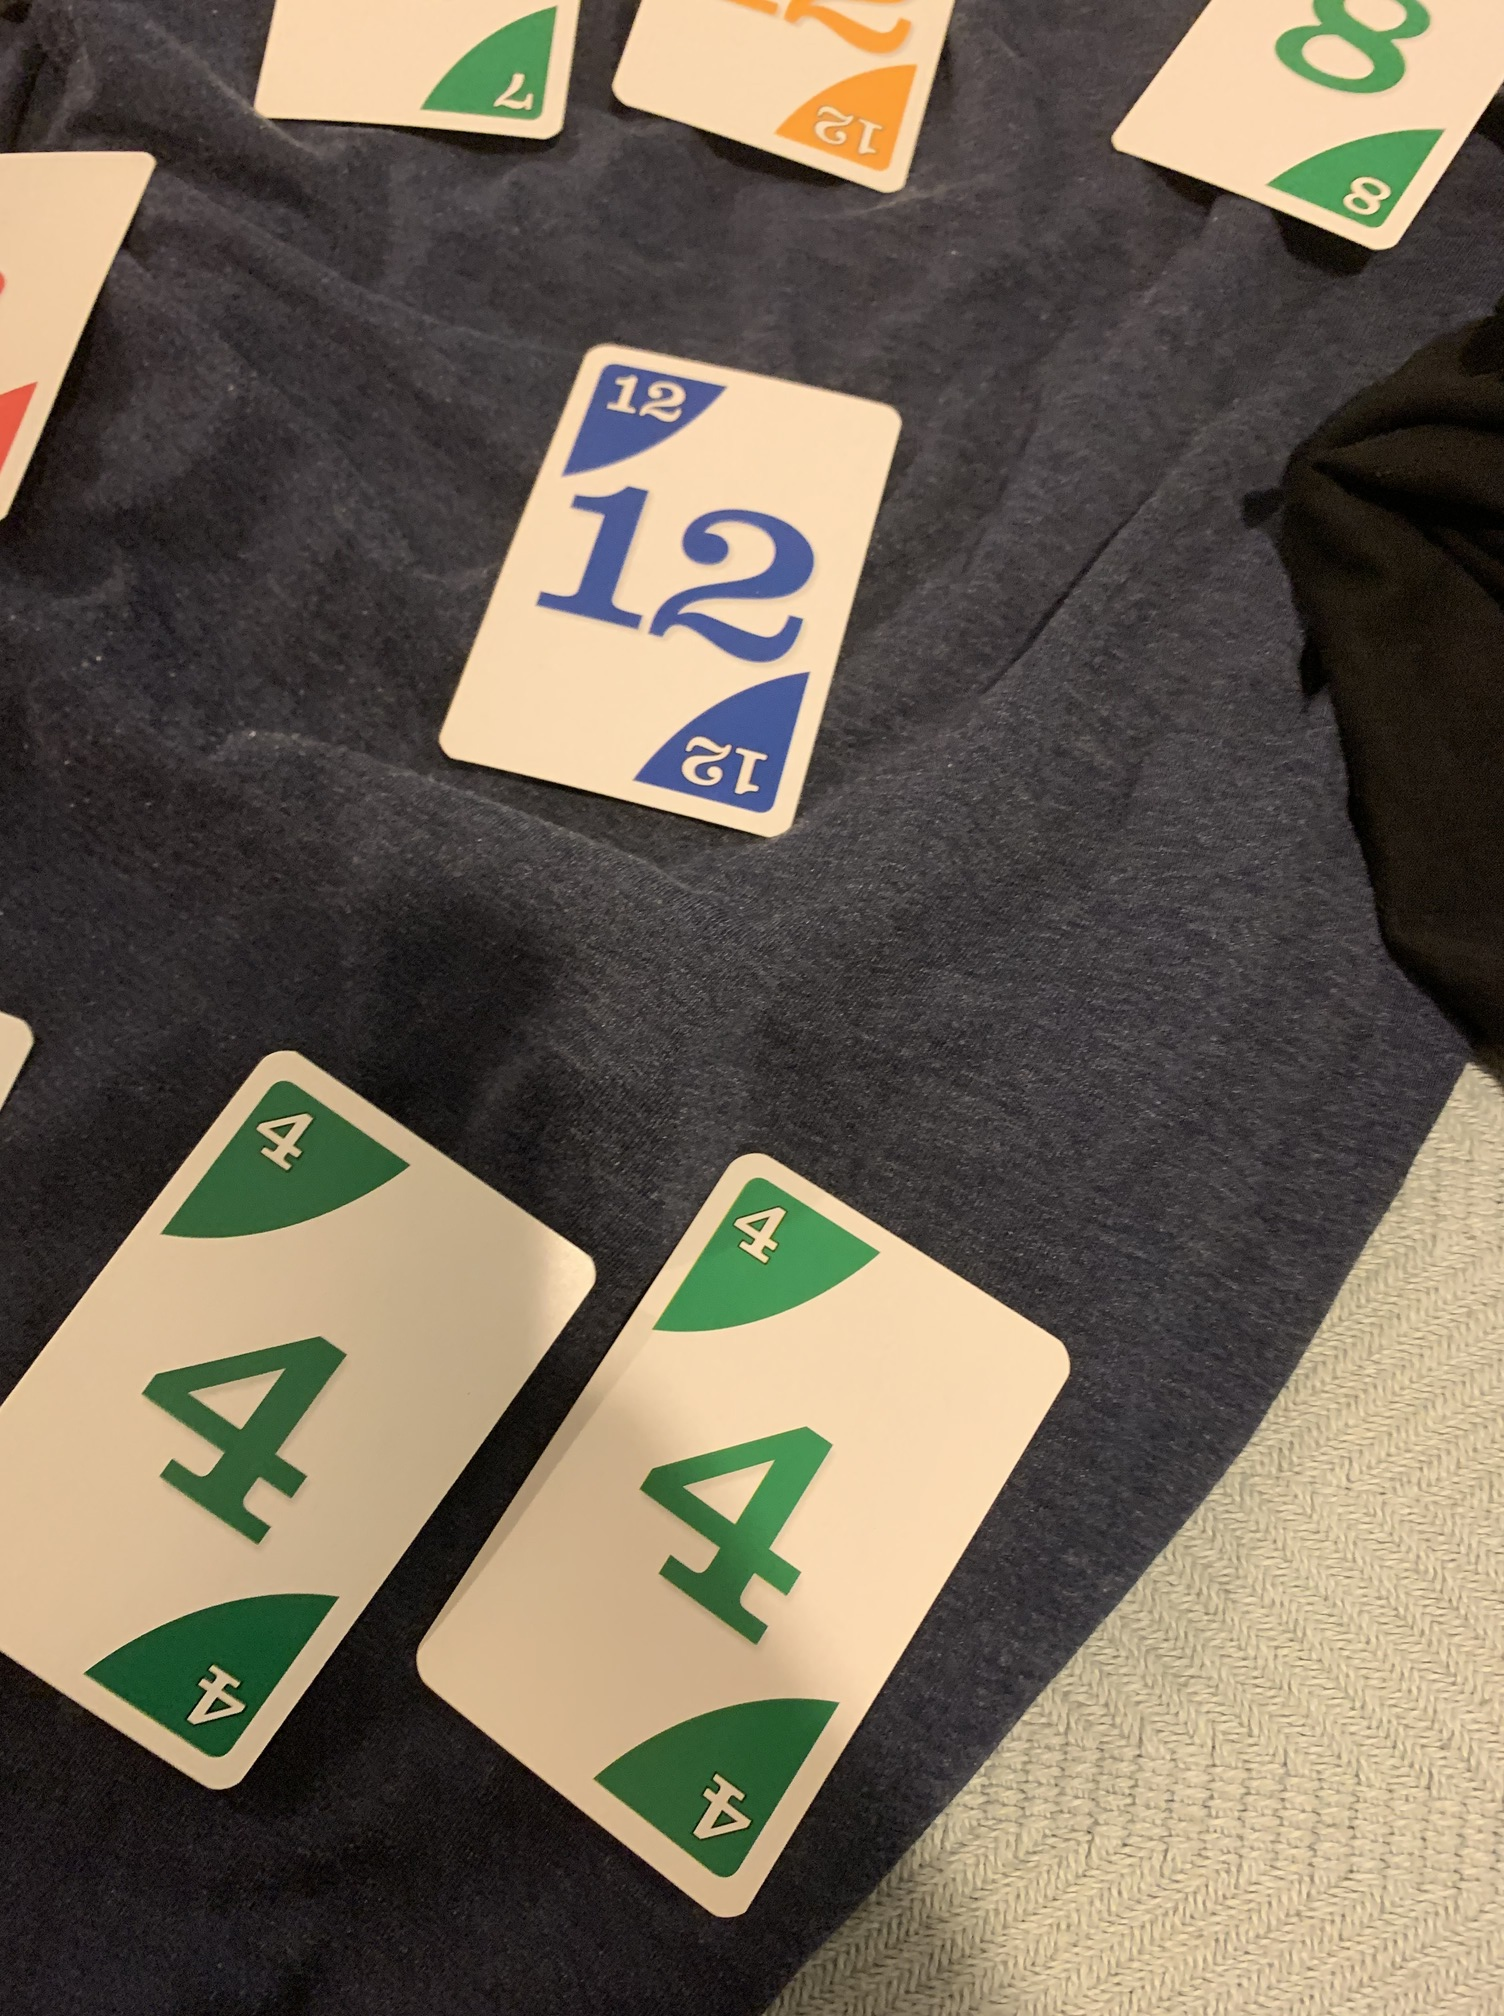four: (395, 1144, 1084, 1931), (2, 1032, 591, 1806)
twelve: (441, 340, 899, 836)
